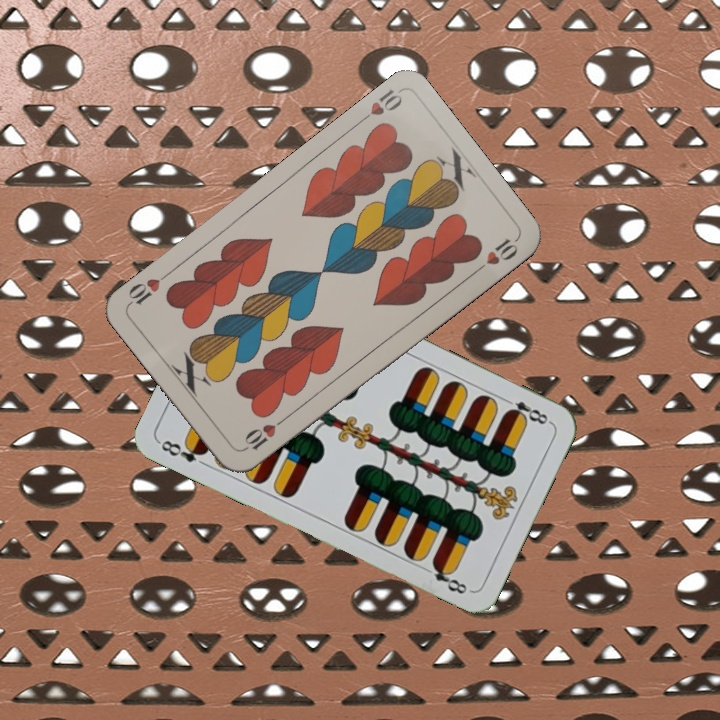E8: (498, 393, 554, 428), (155, 436, 210, 466)
H10: (353, 85, 405, 128), (239, 412, 290, 453)
